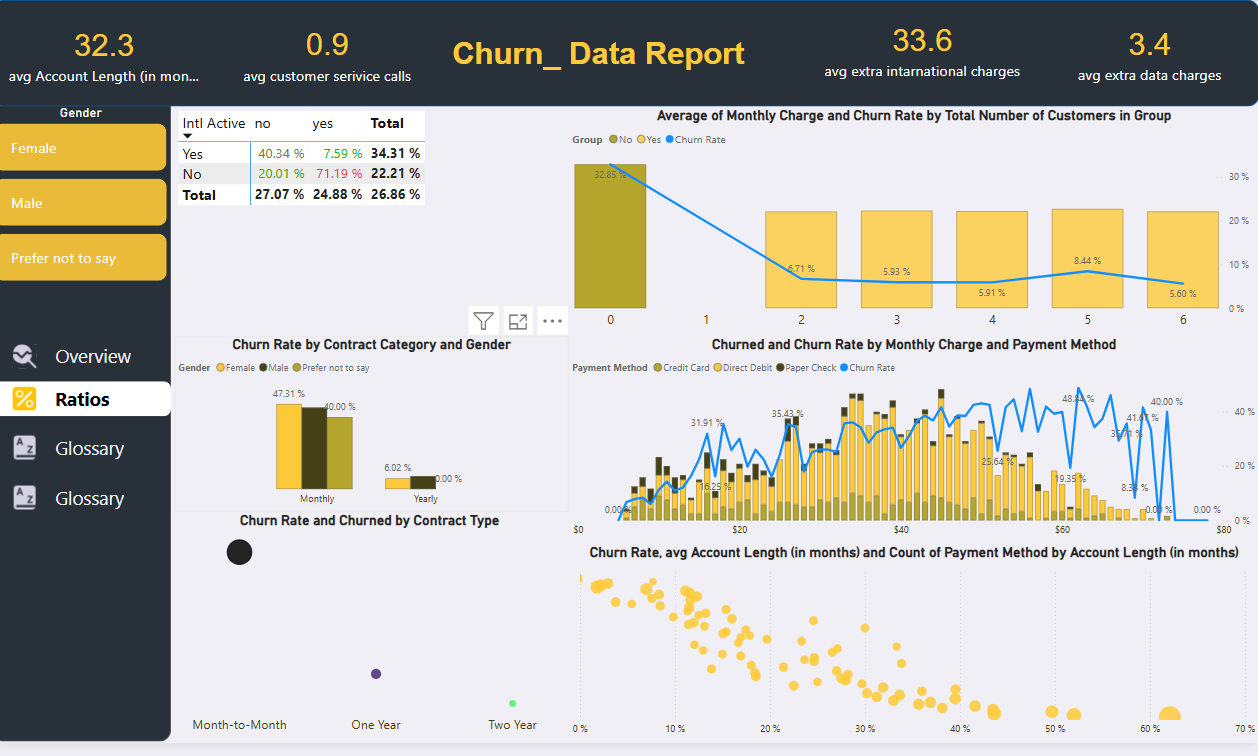

Layout of this report page (visuals, bound fields, positions):
{"tool":"powerbi","page":{"name":"Ratios","canvas":[1640,960],"ordinal":1},"visuals":[{"type":"shape","box":[0,110.6,233.1,849.1],"z":0},{"type":"actionButton","title":"Glossary","box":[0,552.7,232.7,51.7],"z":0,"group":"g2"},{"type":"shape","box":[0,0,1640.3,137.8],"z":1000},{"type":"actionButton","title":"Glossary","box":[0,617.3,232.7,51.7],"z":1000,"group":"g2"},{"type":"actionButton","box":[0,434.7,232.7,51.7],"z":2000,"group":"g2"},{"type":"map","fields":{"Category":["Databel - Data.State"],"Size":["Databel - Data.Churn Rate"]},"box":[0,1014,959.1,626.5],"z":2000},{"type":"card","title":"Revenue","fields":{"Values":["Databel - Data.avg Account Length (in months)"]},"box":[0,0.6,292.5,137.4],"z":3000,"group":"g3"},{"type":"actionButton","title":"Ratios","box":[0,492.2,232.7,45.3],"z":3000,"group":"g2"},{"type":"card","title":"Revenue","fields":{"Values":["Databel - Data.avg customer serivice calls"]},"box":[292.5,0.6,284.4,135.8],"z":6000,"group":"g3"},{"type":"advancedSlicerVisual","fields":{"Values":["Databel - Data.Gender"]},"box":[0,135.8,232.7,234.3],"z":6000},{"type":"card","title":"Revenue","fields":{"Values":["Databel - Data.avg extra data charges"]},"box":[1355.9,0.6,284.4,134.1],"z":7000,"group":"g3"},{"type":"card","title":"Revenue","fields":{"Values":["Databel - Data.avg extra intarnational charges"]},"box":[1052.1,0.6,303.8,124.4],"z":8000,"group":"g3"},{"type":"group","id":"g1","title":"Group 1","box":[0,0.6,1640.3,137.4],"z":10000},{"type":"scatterChart","fields":{"X":["Databel - Data.Contract Type"],"Y":["Databel - Data.Churn Rate"],"Size":["Sum(Databel - Data.Churned)"]},"box":[232.7,662.6,513.9,295.7],"z":11000},{"type":"lineStackedColumnComboChart","fields":{"Category":["Databel - Data.Monthly Charge"],"Series":["Databel - Data.Payment Method"],"Y2":["Databel - Data.Churn Rate"],"Y":["Sum(Databel - Data.Churned)"]},"box":[746.6,434.7,893.7,268.3],"z":12000},{"type":"scatterChart","fields":{"X":["Databel - Data.Churn Rate"],"Category":["Databel - Data.Account Length (in months)"],"Y":["Databel - Data.avg Account Length (in months)"],"Size":["CountNonNull(Databel - Data.Payment Method)"]},"box":[746.6,703,893.7,257],"z":13000},{"type":"pivotTable","fields":{"Rows":["Databel - Data.Intl Active"],"Values":["Databel - Data.Churn Rate"],"Columns":["Databel - Data.Intl Plan"]},"box":[237.6,139,339.4,145.4],"z":14000},{"type":"lineStackedColumnComboChart","title":"Average of Monthly Charge and Churn Rate by Total Number of Customers in Group","fields":{"Category":["Databel - Data.Number of Customers in Group"],"Y":["Avg(Databel - Data.Monthly Charge)"],"Series":["Databel - Data.Group"],"Y2":["Databel - Data.Churn Rate"]},"box":[746.6,139,893.7,295.7],"z":15000},{"type":"clusteredColumnChart","fields":{"Y":["Databel - Data.Churn Rate"],"Category":["Databel - Data.Contract Category"],"Series":["Databel - Data.Gender"]},"box":[237.6,434.7,509.1,227.9],"z":16000},{"type":"group","id":"g2","title":"Group 2","box":[0,434.7,232.7,234.3],"z":16001},{"type":"group","id":"g3","title":"Group 3","box":[0,0.6,1640.3,137.4],"z":18007,"group":"g1"}]}

Visuals, with their boxes on the page's 1640x960 design canvas (x1, y1, x2, y2). These are canvas units, not pixel positions in the 1258x756 screenshot, which may show the page scaled, cropped or inside an application window:
shape: detection(0, 111, 233, 960)
"Glossary" actionButton: detection(0, 553, 233, 604)
shape: detection(0, 0, 1640, 138)
"Glossary" actionButton: detection(0, 617, 233, 669)
actionButton: detection(0, 435, 233, 486)
map - Databel - Data.State x Databel - Data.Churn Rate: detection(0, 1014, 959, 1640)
"Revenue" card: detection(0, 1, 292, 138)
"Ratios" actionButton: detection(0, 492, 233, 538)
"Revenue" card: detection(292, 1, 577, 136)
advancedSlicerVisual - Databel - Data.Gender: detection(0, 136, 233, 370)
"Revenue" card: detection(1356, 1, 1640, 135)
"Revenue" card: detection(1052, 1, 1356, 125)
"Group 1" group: detection(0, 1, 1640, 138)
scatterChart - Databel - Data.Contract Type x Databel - Data.Churn Rate: detection(233, 663, 747, 958)
lineStackedColumnComboChart - Databel - Data.Monthly Charge x Databel - Data.Payment Method: detection(747, 435, 1640, 703)
scatterChart - Databel - Data.Churn Rate x Databel - Data.Account Length (in months): detection(747, 703, 1640, 960)
pivotTable - Databel - Data.Intl Active x Databel - Data.Churn Rate: detection(238, 139, 577, 284)
"Average of Monthly Charge and Churn Rate by Total Number of Customers in Group" lineStackedColumnComboChart: detection(747, 139, 1640, 435)
clusteredColumnChart - Databel - Data.Churn Rate x Databel - Data.Contract Category: detection(238, 435, 747, 663)
"Group 2" group: detection(0, 435, 233, 669)
"Group 3" group: detection(0, 1, 1640, 138)
